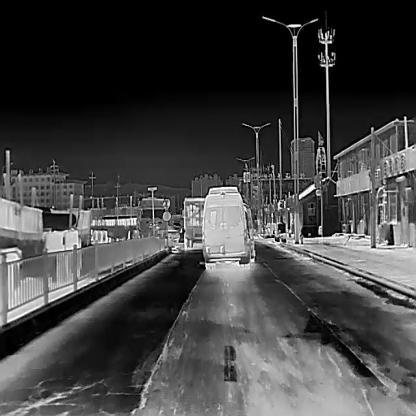car: (202, 183, 254, 263), (183, 198, 210, 249), (137, 199, 167, 242)
